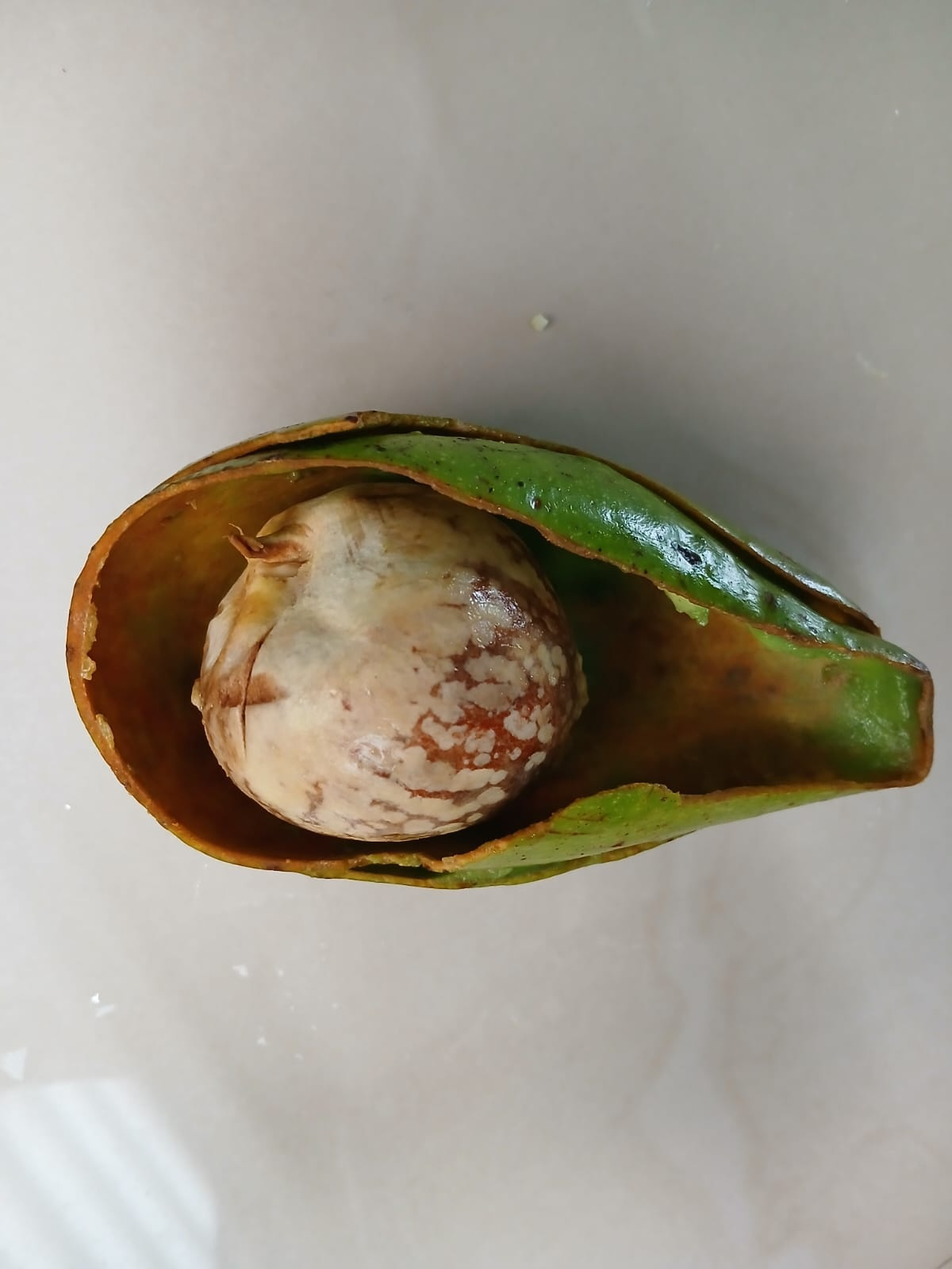Organico: (67, 407, 937, 888)
